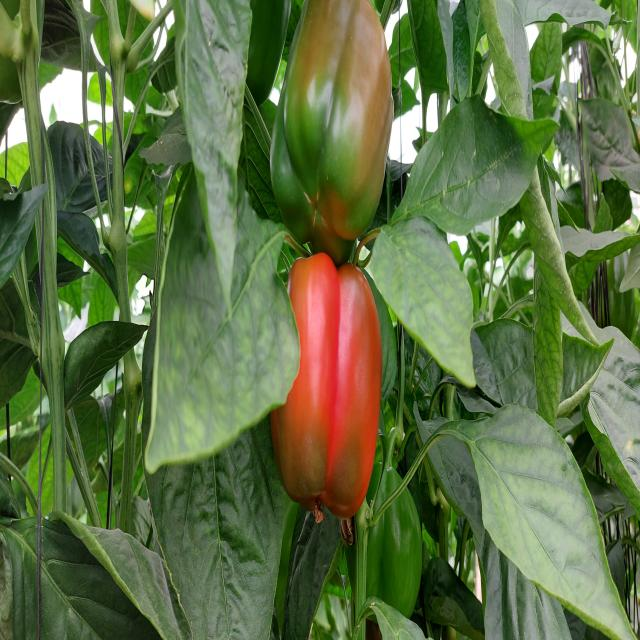BrownishRed--Can-be-Harvested: (291, 0, 398, 238)
Red-Ready-to-Harvest: (275, 260, 381, 519)
